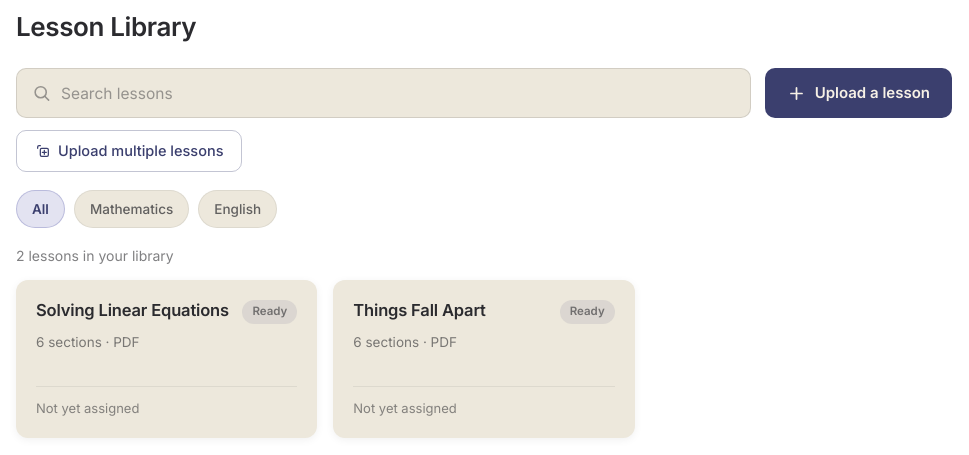
Test: the subject pills › narrow the shelf to one subject
Click the button "English". click: click(238, 209)
box: [198,190,277,228]
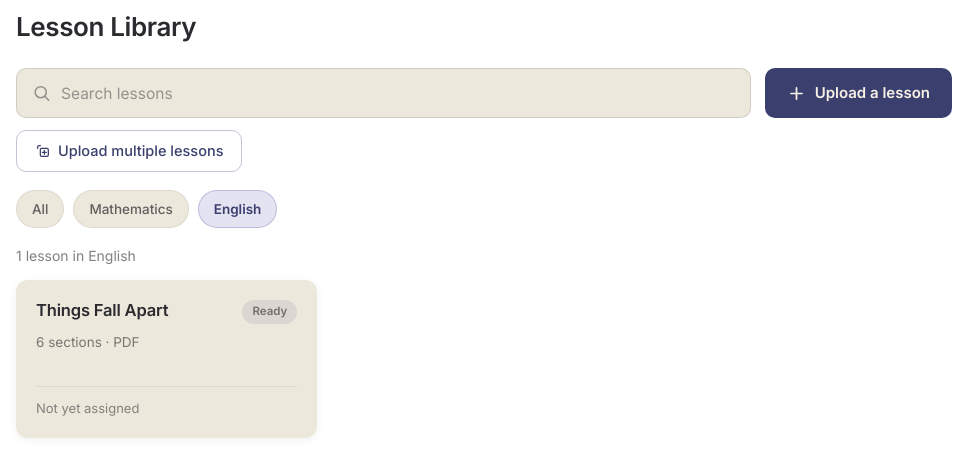
Expected: the text "Things Fall Apart" is shown, [36,300,168,322]
Expected: the link "Solving Linear Equations" is gone
